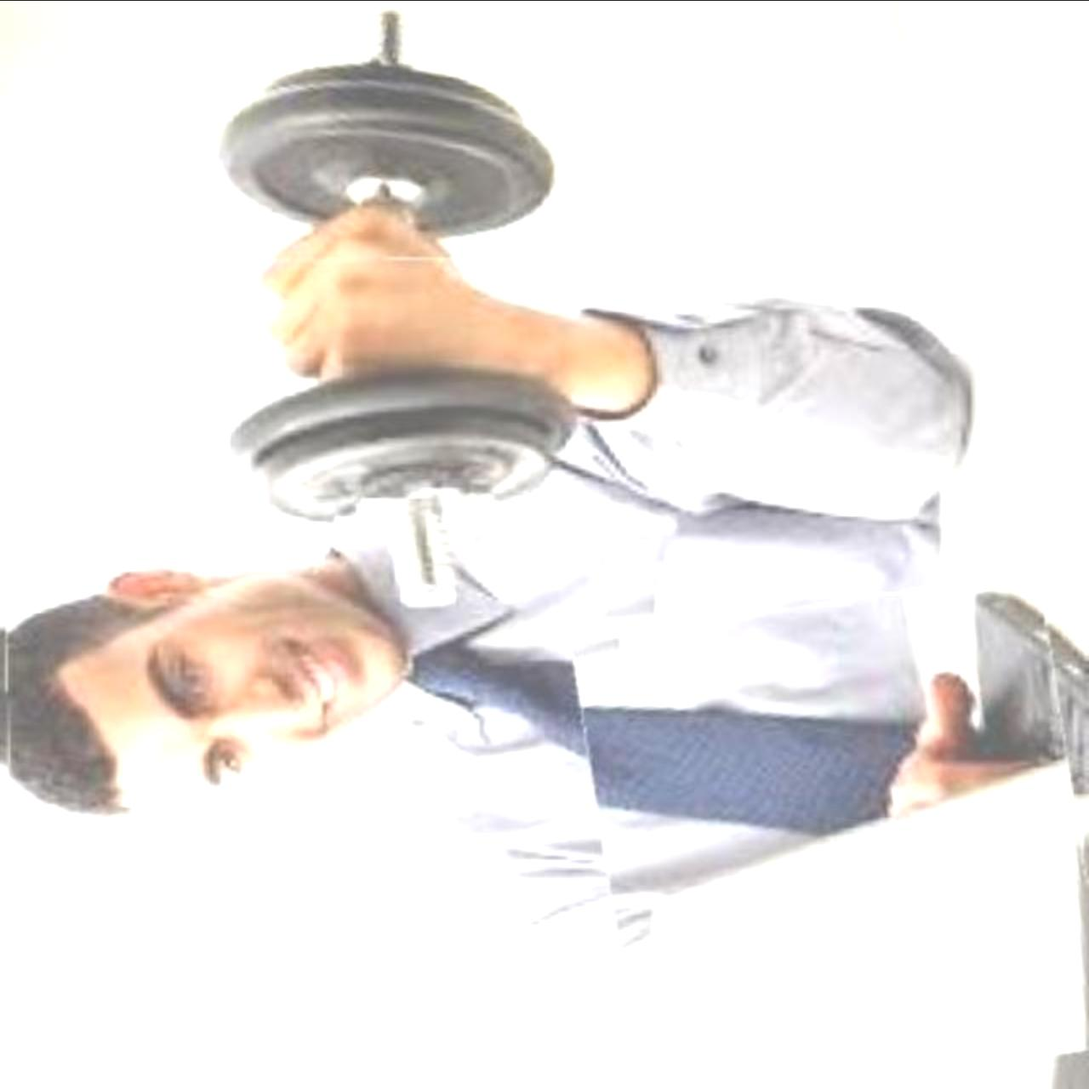laptop: (590, 586, 1088, 1088)
